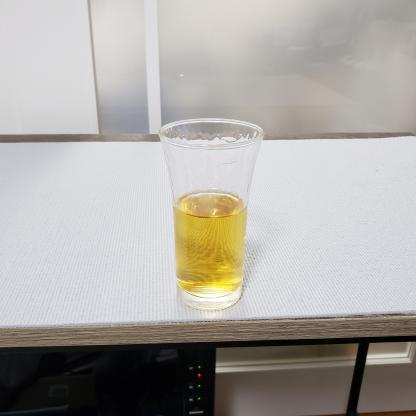glass: (154, 115, 279, 316)
